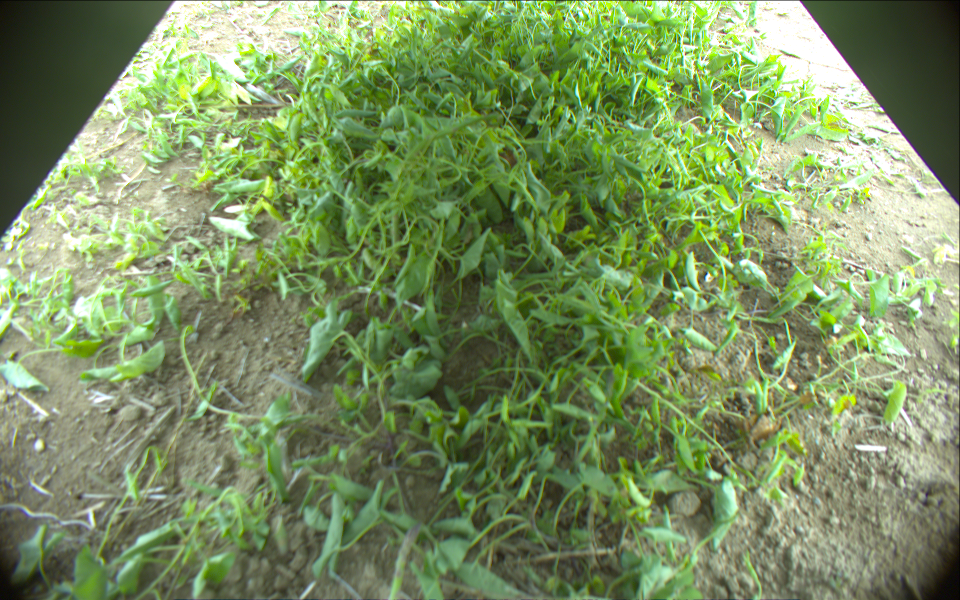aspa: (387, 522, 420, 600)
